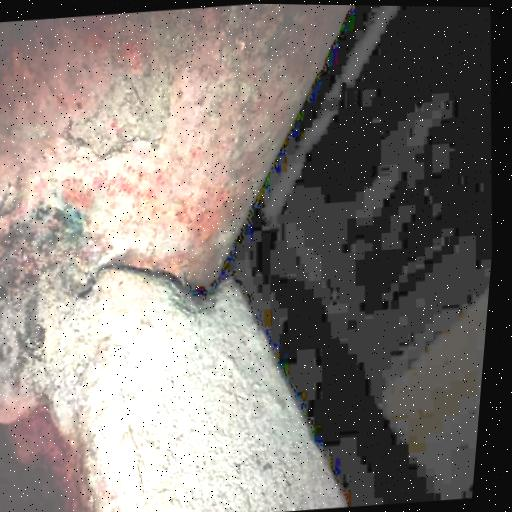crack: (70, 248, 242, 322)
